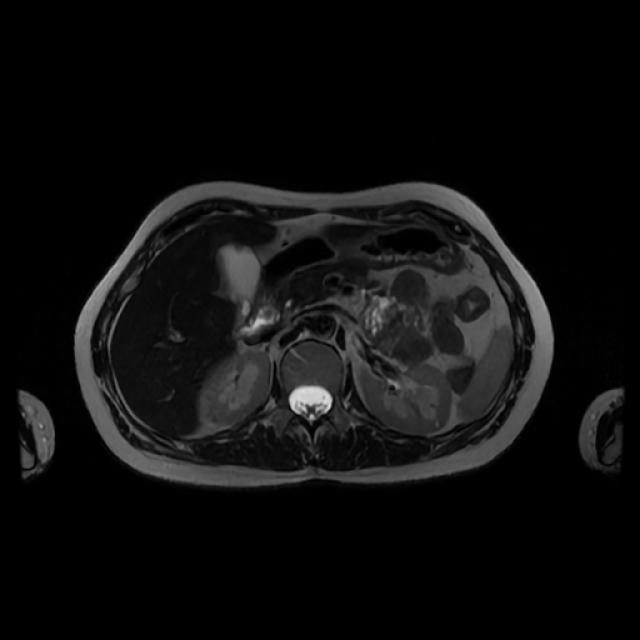sag: (202, 354, 271, 427)
sol: (363, 364, 452, 433)
